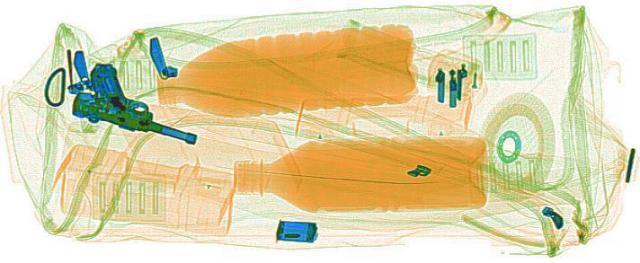Gun: (20, 60, 258, 147)
